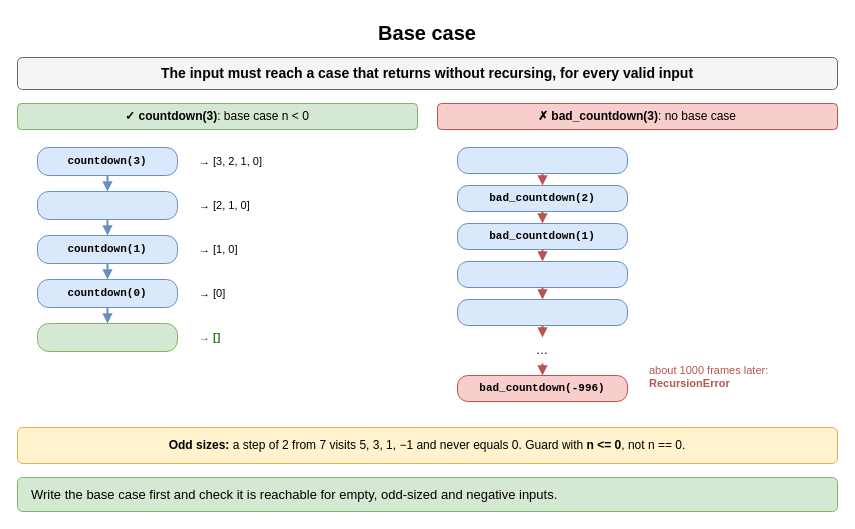
This 855x529 diagram has some shape labels left out. The shapes that lost their labels are listed below. From the top down, each one's centre as x and y in pixels, then its label:
point (542, 160): bad_countdown(3)
point (107, 205): countdown(2)
point (542, 274): bad_countdown(0)
point (542, 312): bad_countdown(-1)
point (107, 337): countdown(-1)
